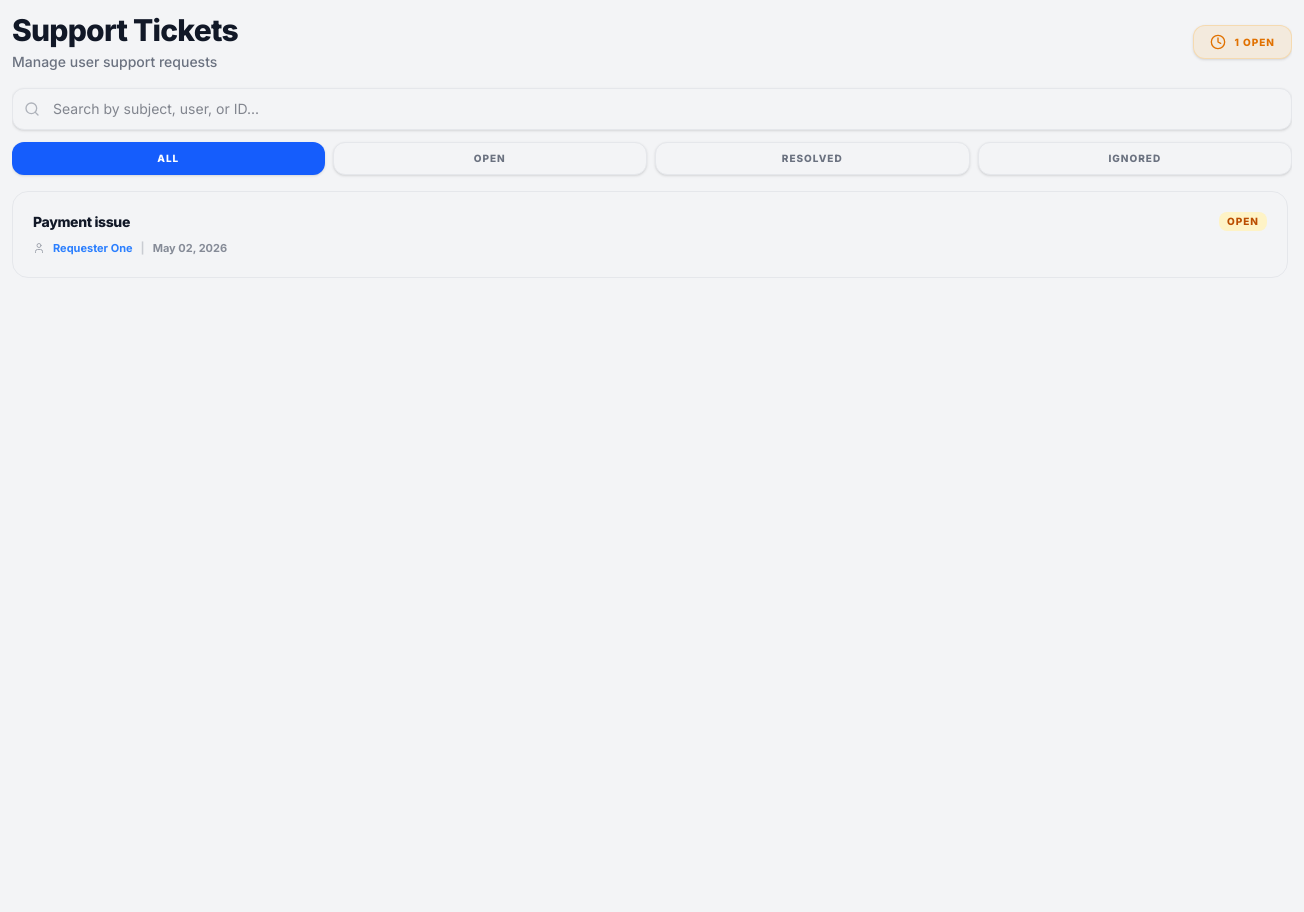
Test case: SupportPage › marks open tickets resolved through the admin status action
This screenshot has width=1304, height=912.
Step 1. Click the heading "Payment issue" → (82, 222), box [33,212,130,232]
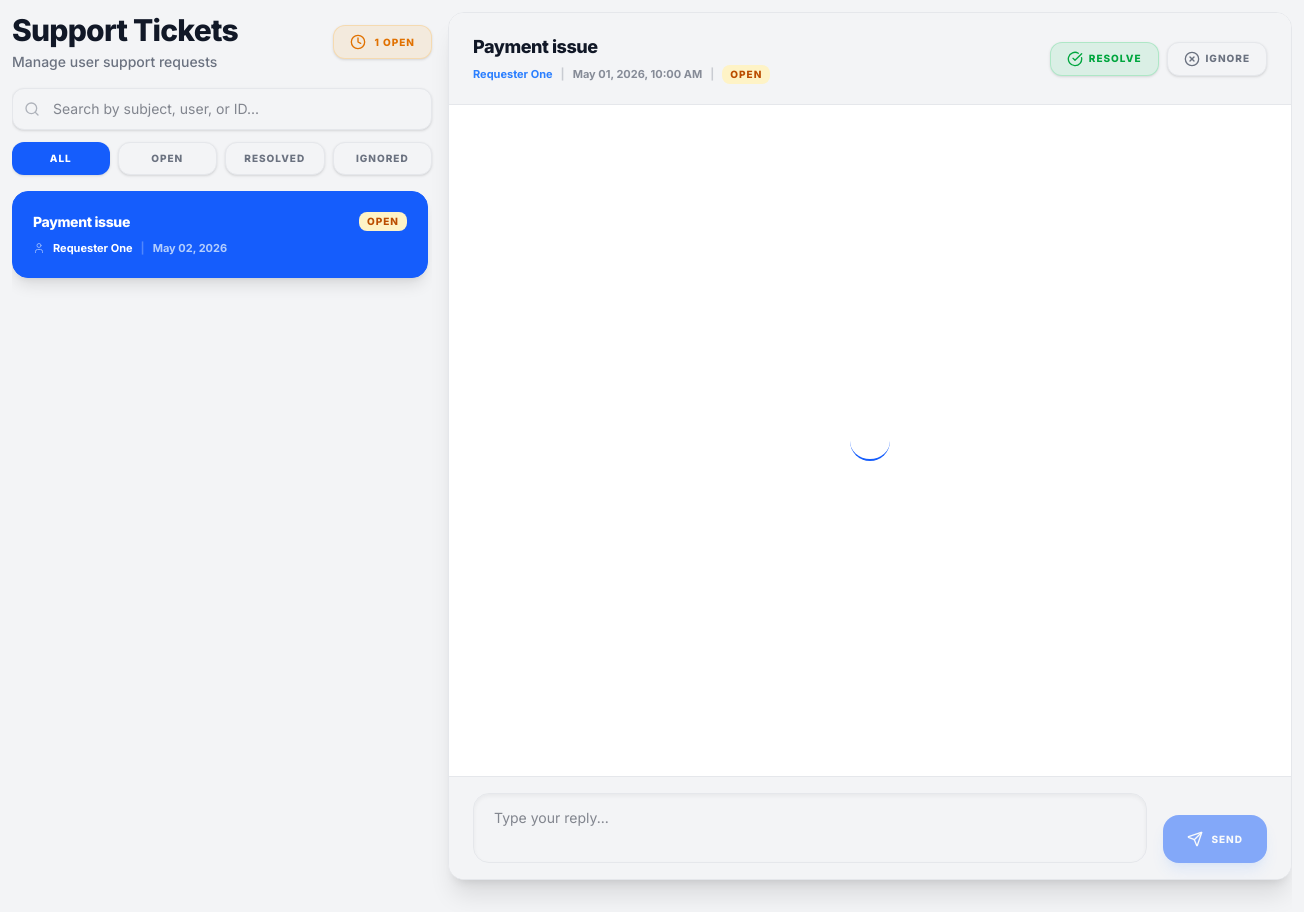
Step 2. Click the button titled "Mark as resolved" → (1104, 58), box [1050,42,1158,76]
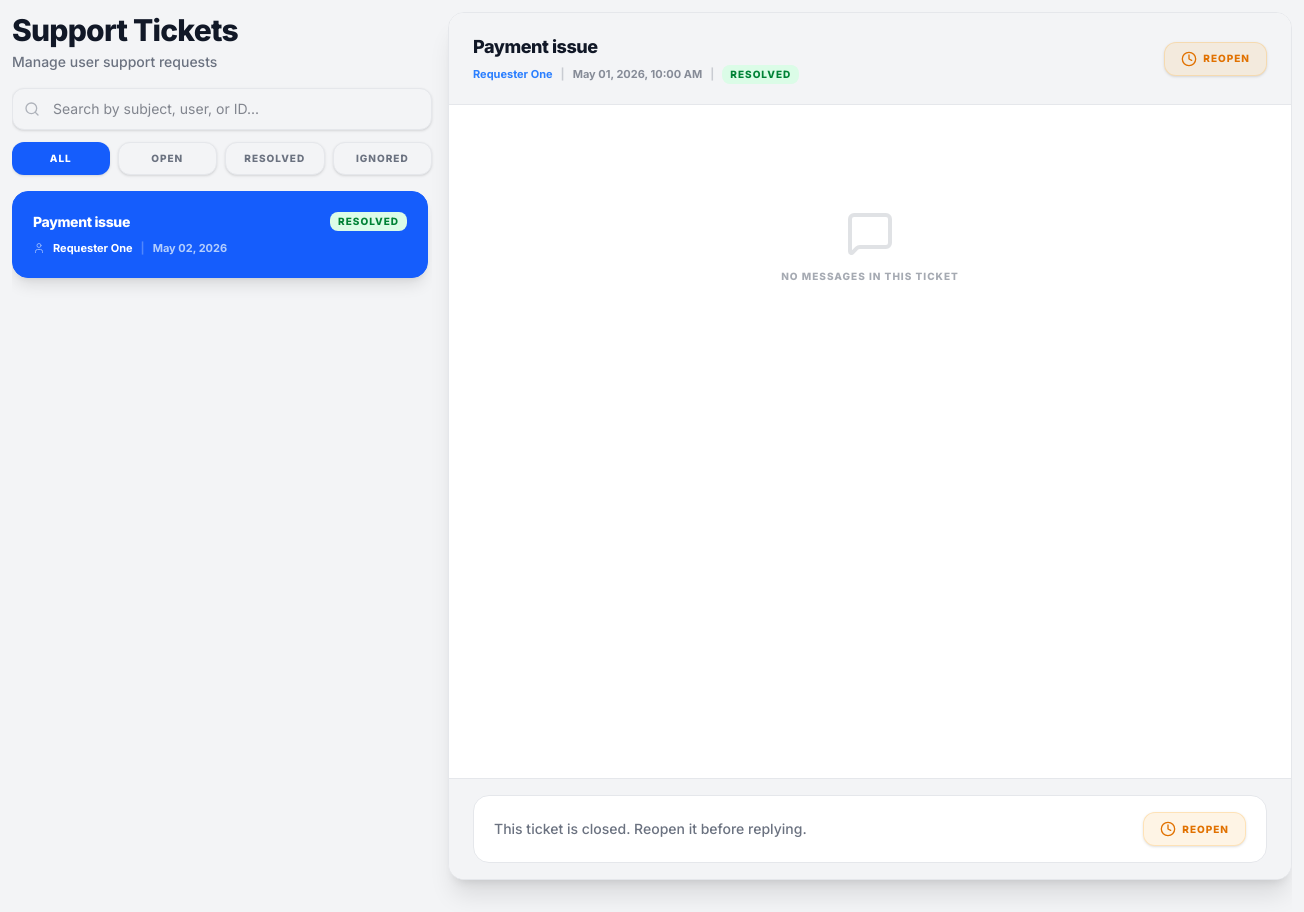
Expected: the text "This ticket is closed. Reopen it before replying." is shown, [494,819,807,839]
